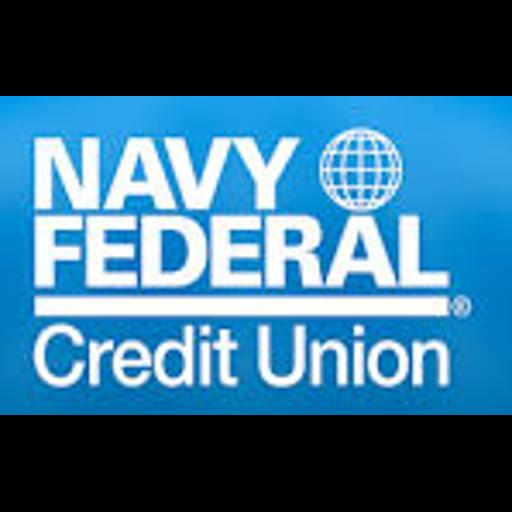Navy Federal Credit Union: (0, 96, 512, 415)
